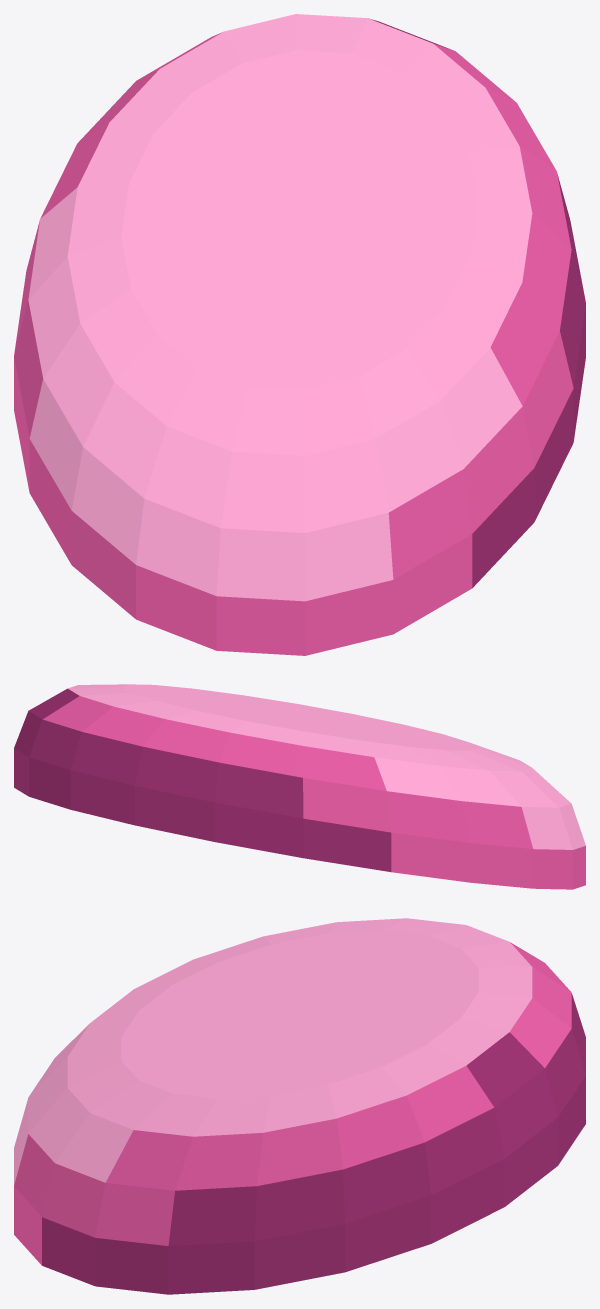
File: Button_ResetCap.gltf
3 views of the same model, one above another, from view 1: azimuth 30°, elevation 25°; view 2: azimuth 150°, elevation 25°; view 3: azimuth 270°, elevation 25° (orthographic). The views are drawn at different scales.
Visible parts, largest first — view 1: Button_ResetCap_baked; view 2: Button_ResetCap_baked; view 3: Button_ResetCap_baked.
Part boxes in pixels (<box>): Button_ResetCap_baked: <box>14,14,585,655</box>; Button_ResetCap_baked: <box>14,684,585,889</box>; Button_ResetCap_baked: <box>14,918,585,1294</box>.
Size of the model in its own units: 0.5792 by 0.3299 by 0.5334.
